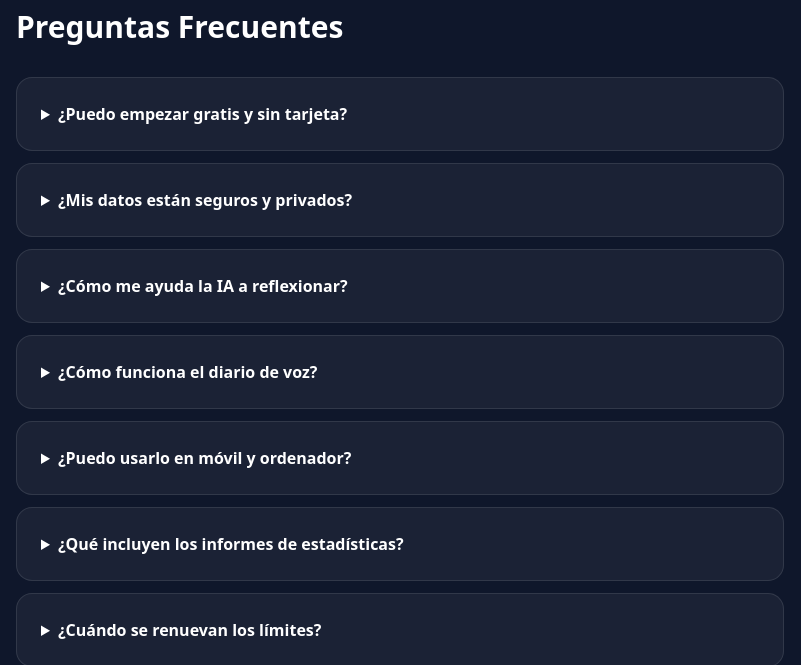
FAQ toggles ¿Cómo funciona el diario de voz?
The image size is (801, 665).
Click the heading "¿Cómo funciona el diario de voz?".
click(188, 372)  # box 58,361 -> 317,383
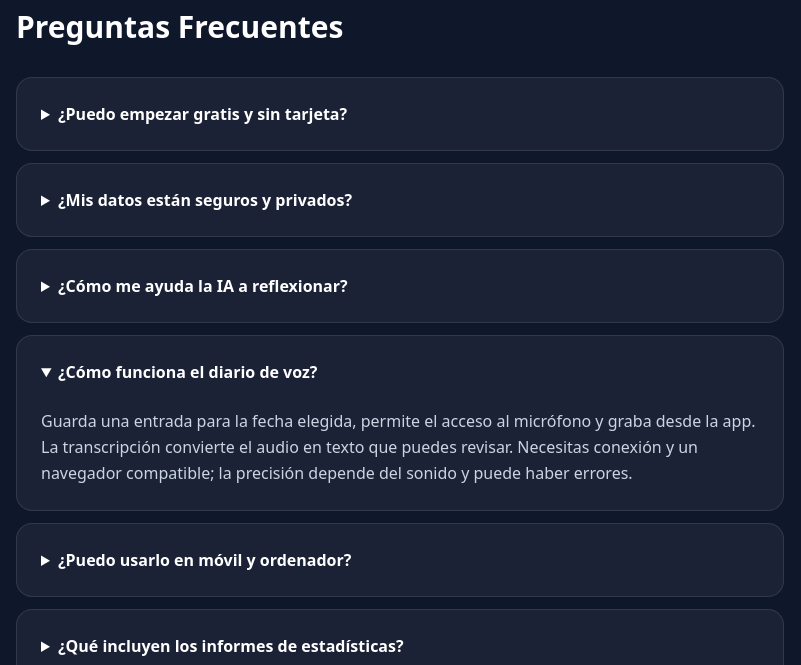
Check: the text "Guarda una entrada para la fecha elegida, permite el acceso al micrófono y graba desde la app. La transcripción conviert" is shown, box 41,410 -> 756,484
Click the heading "¿Cómo funciona el diario de voz?".
click(188, 372)  # box 58,361 -> 317,383
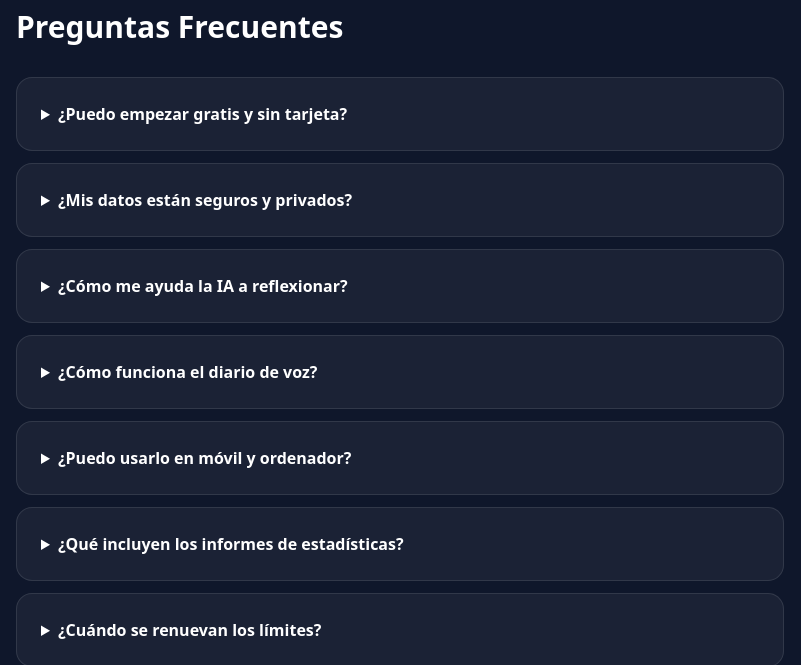
Check: the text "Guarda una entrada para la fecha elegida, permite el acceso al micrófono y graba desde la app. La transcripción conviert" is gone
